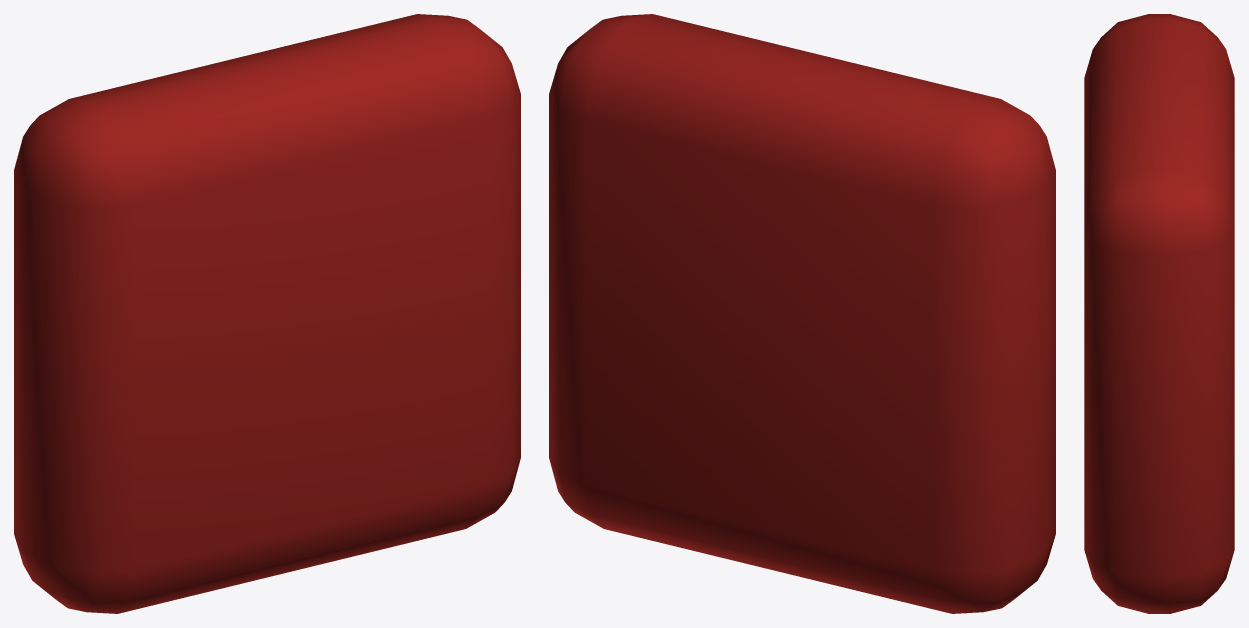
The model's file is home.soft.cushion_red.glb.
3 renders of one model, left to right at view 1: azimuth 30°, elevation 25°; view 2: azimuth 150°, elevation 25°; view 3: azimuth 270°, elevation 25°, orthographic. The views are drawn at different scales.
Parts seen in each view (by area): view 1: main__fabric_red; view 2: main__fabric_red; view 3: main__fabric_red.
Boxes of the visible parts, <box> form: main__fabric_red: <box>14,14,520,613</box>; main__fabric_red: <box>549,14,1055,613</box>; main__fabric_red: <box>1084,14,1234,613</box>.
Size of the model in its own units: 0.45 by 0.45 by 0.14.
